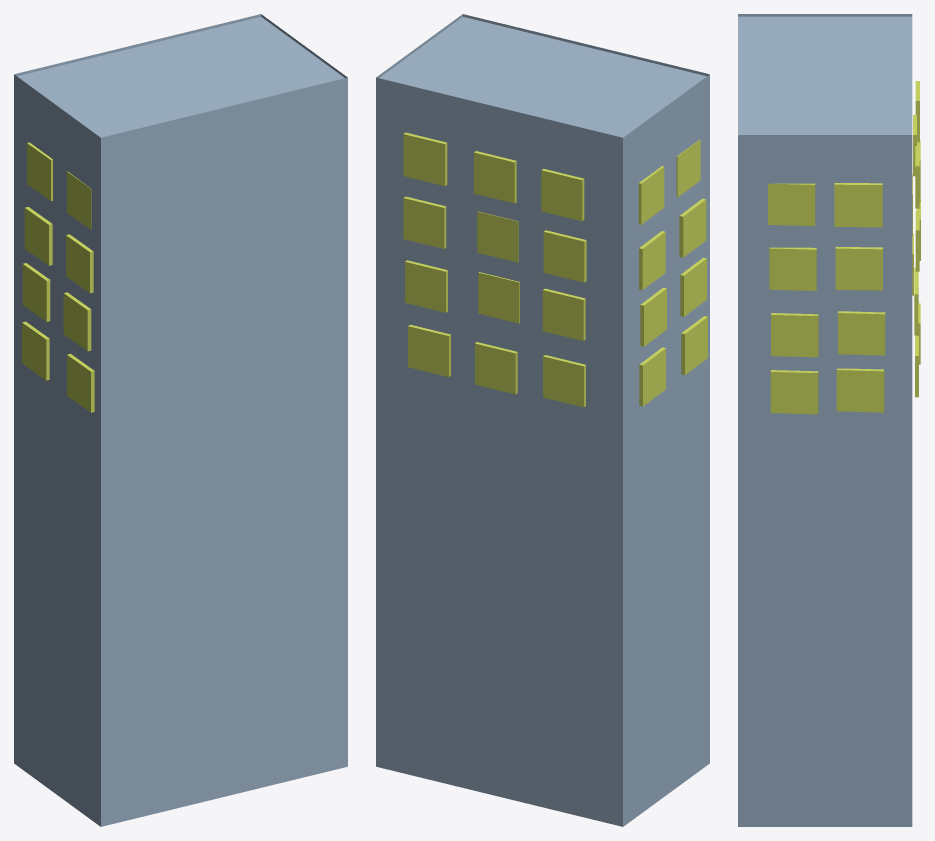
File: building.fbx
3 renders of one model, left to right at view 1: azimuth 30°, elevation 25°; view 2: azimuth 150°, elevation 25°; view 3: azimuth 270°, elevation 25°, orthographic.
Parts seen in each view (by area): view 1: Cube, Cube.026, Cube.025, Cube.024, Cube.028, Cube.023, Cube.027, Cube.013, Cube.022; view 2: Cube, Cube.002, Cube.004, Cube.003, Cube.009, Cube.006, Cube.007, Cube.001, Cube.012, Cube.011, Cube.010, Cube.008 (+9 smaller); view 3: Cube, Cube.016, Cube.018, Cube.017, Cube.014, Cube.019, Cube.015, Cube.020, Cube.021.
Boxes of the visible parts, x1,y1,x2,y2 form: Cube: [14, 14, 347, 826]; Cube.026: [63, 292, 91, 351]; Cube.025: [22, 263, 50, 321]; Cube.024: [24, 207, 52, 265]; Cube.028: [22, 321, 49, 380]; Cube.023: [66, 234, 93, 293]; Cube.027: [67, 354, 94, 412]; Cube.013: [27, 142, 52, 200]; Cube.022: [67, 171, 91, 229]; Cube: [376, 14, 709, 826]; Cube.002: [403, 132, 447, 185]; Cube.004: [403, 196, 446, 248]; Cube.003: [541, 168, 584, 221]; Cube.009: [542, 288, 585, 340]; Cube.006: [543, 230, 586, 282]; Cube.007: [405, 260, 447, 312]; Cube.001: [474, 151, 516, 203]; Cube.012: [543, 355, 585, 407]; Cube.011: [475, 342, 517, 394]; Cube.010: [408, 324, 450, 376]; Cube.008: [478, 272, 519, 323]; Cube: [738, 14, 912, 826]; Cube.016: [834, 183, 882, 227]; Cube.018: [770, 370, 818, 414]; Cube.017: [836, 368, 884, 412]; Cube.014: [838, 311, 885, 355]; Cube.019: [771, 313, 818, 357]; Cube.015: [835, 246, 882, 290]; Cube.020: [769, 247, 816, 290]; Cube.021: [768, 183, 815, 226].
Bounding box in the file's own units: 208 × 523 × 125.
